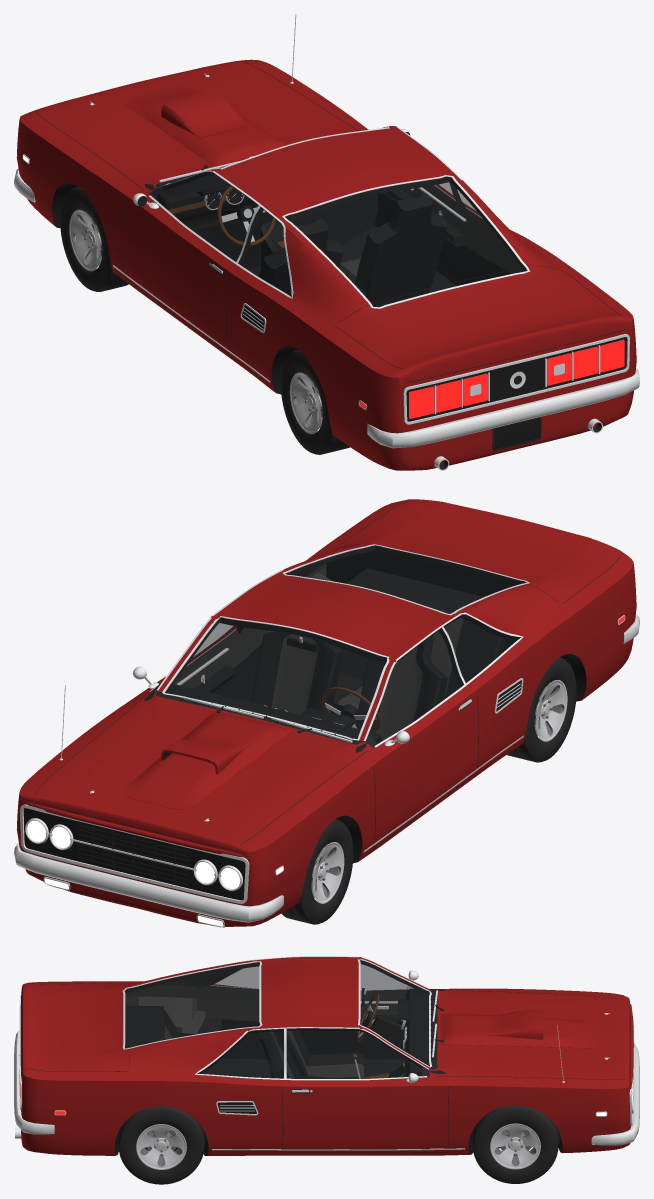
File: brute_68.glb
The picture shows the model from 3 angles, top to bottom: view 1: azimuth 30°, elevation 25°; view 2: azimuth 150°, elevation 25°; view 3: azimuth 270°, elevation 25°; orthographic projection. The views are drawn at different scales.
Parts seen in each view (by area): view 1: Body, Glass, Interior, Wheel_FL, Wheel_RL, Lights_Tail, Lights_Brake, SteeringWheel; view 2: Body, Glass, Interior, Wheel_FL, Wheel_RL, Lights_Head, SteeringWheel; view 3: Body, Glass, Interior, Wheel_FR, Wheel_RR, SteeringWheel.
Boxes of the visible parts, x1,y1,x2,y2 form: Body: (14,14,639,470); Glass: (154,163,526,306); Interior: (144,175,524,307); Wheel_FL: (60,187,128,291); Wheel_RL: (280,350,350,454); Lights_Tail: (359,339,624,418); Lights_Brake: (412,346,621,413); SteeringWheel: (217,186,275,245); Body: (14,499,639,927); Glass: (165,546,524,743); Interior: (144,550,516,752); Wheel_FL: (281,819,353,924); Wheel_RL: (507,657,576,762); Lights_Head: (27,820,283,926); SteeringWheel: (322,687,380,732); Body: (14,956,639,1155); Glass: (125,960,428,1078); Interior: (125,968,445,1078); Wheel_FR: (472,1105,558,1183); Wheel_RR: (118,1106,204,1184); SteeringWheel: (357,992,379,1041).
Bounding box in the file's own units: 2.01 × 1.38 × 4.95.
